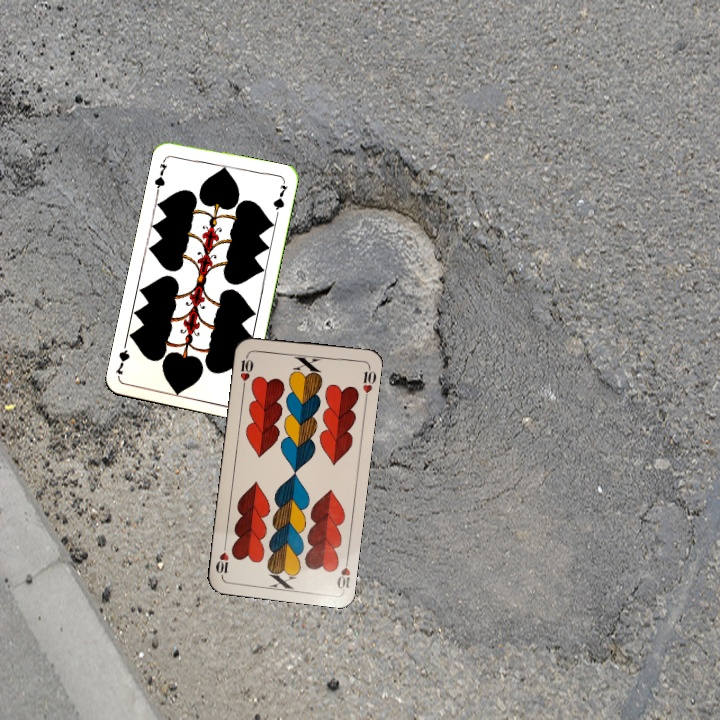G7: (150, 154, 170, 194)
H10: (236, 350, 256, 390), (333, 552, 353, 592)
